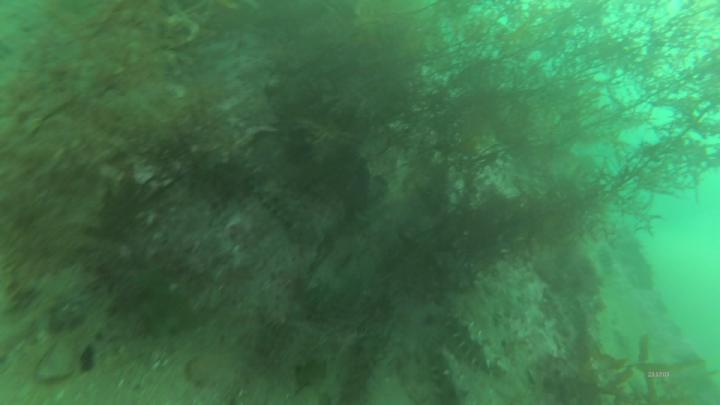holothurian: (252, 168, 320, 236), (452, 312, 515, 381), (430, 342, 472, 405)
waterweeds: (299, 2, 720, 283)
